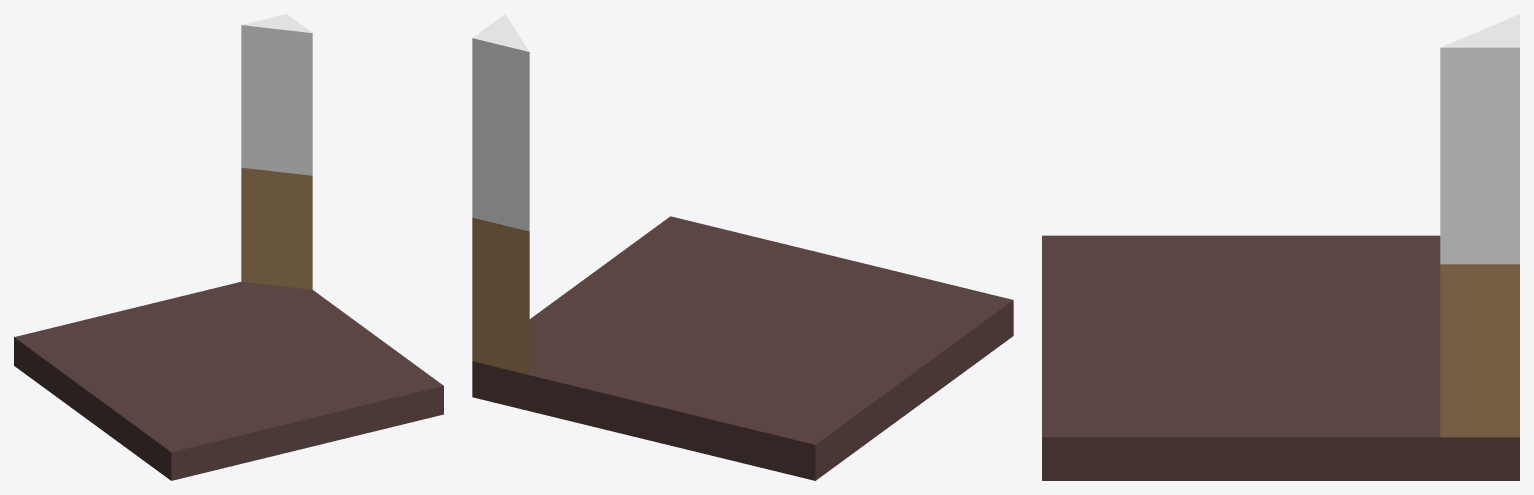
The model's file is floor_corner_cut_1.FBX.
3 views of the same model, side by side, from view 1: azimuth 30°, elevation 25°; view 2: azimuth 150°, elevation 25°; view 3: azimuth 270°, elevation 25° (orthographic). The views are drawn at different scales.
Parts seen in each view (by area): view 1: Object264; view 2: Object264; view 3: Object264.
Part boxes in pixels (x1,y1,x2,y2): Object264: (14, 14, 443, 480); Object264: (472, 14, 1013, 480); Object264: (1042, 14, 1519, 480).
Size of the model in its own units: 100 by 100 by 100.
